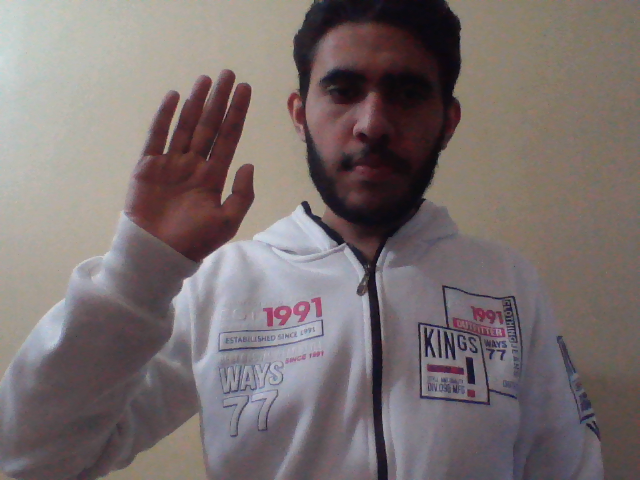hello: (115, 64, 259, 266)
